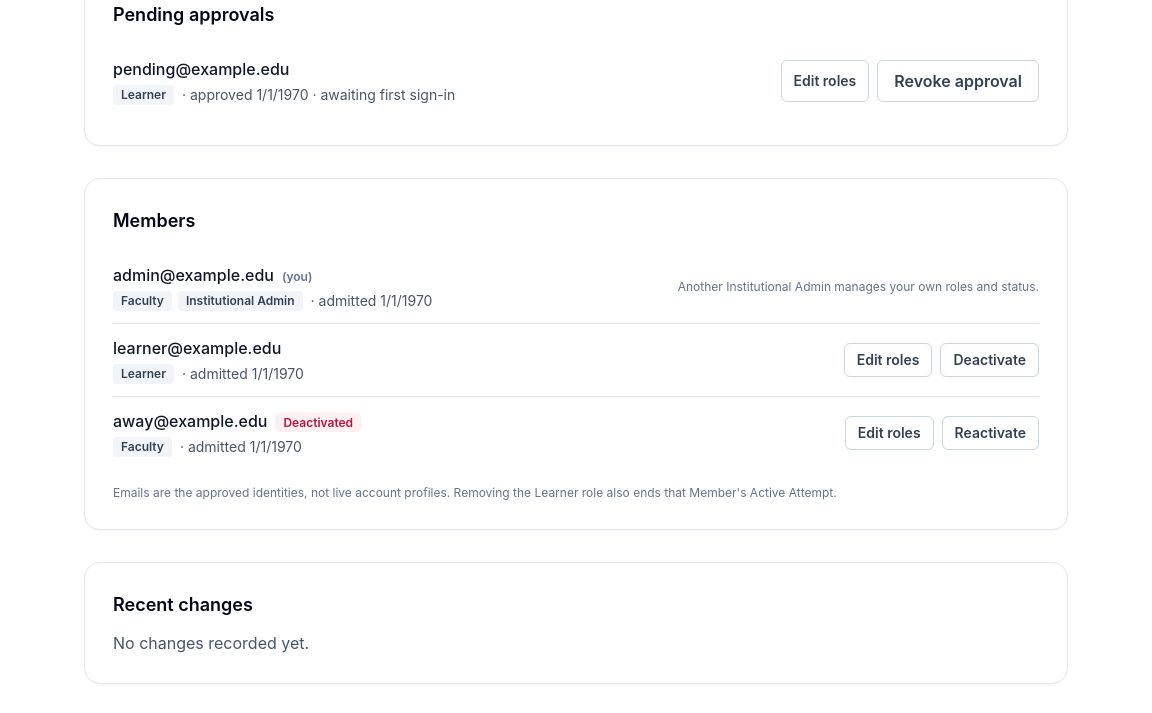
Members page › edits a Member's roles and explains a refused change
This screenshot has width=1152, height=713.
(page scrolled)
Click the button "Edit roles" in the row of "learner@example.edu".
click(888, 360)  # box [844, 343, 932, 377]
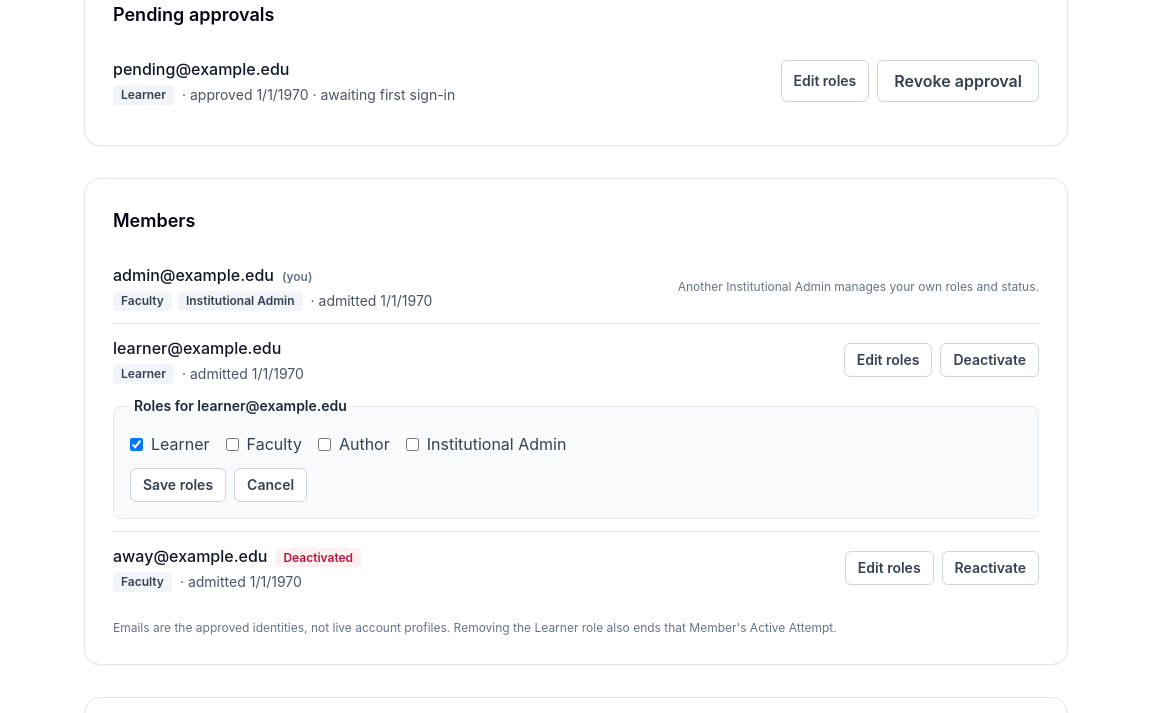
Click the checkbox labelled "Faculty".
click(232, 444)  # box [226, 438, 239, 450]
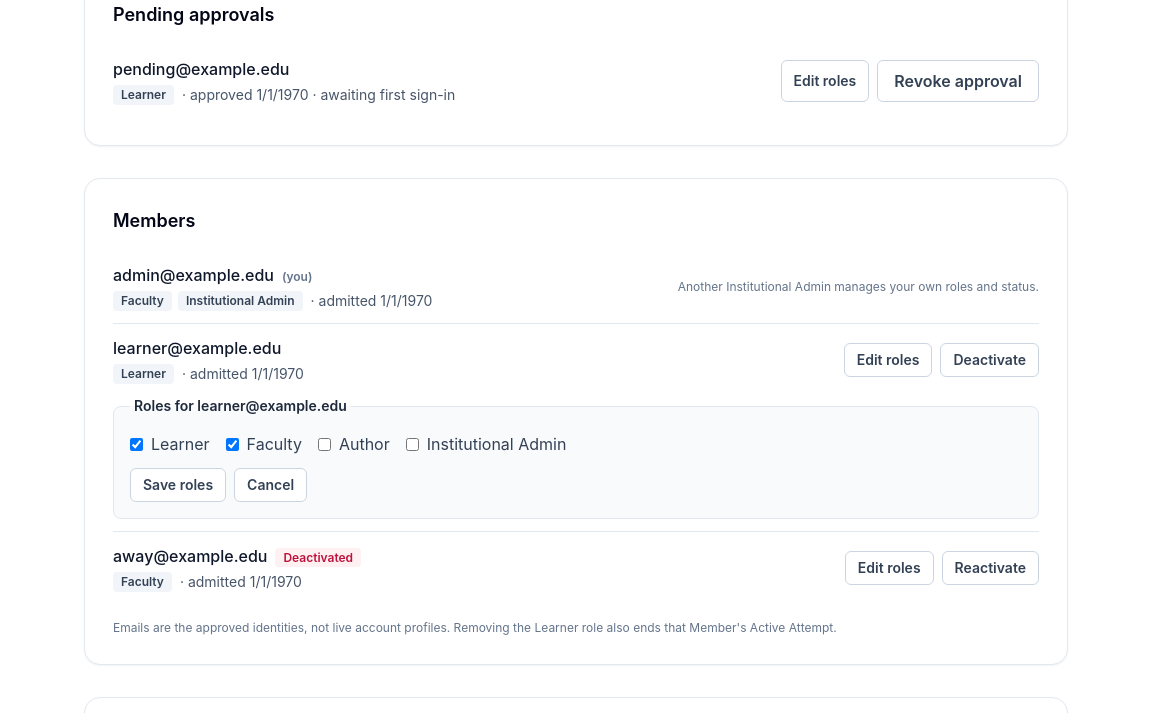
Click the button "Save roles".
click(178, 485)  # box [130, 468, 226, 502]
(page scrolled)
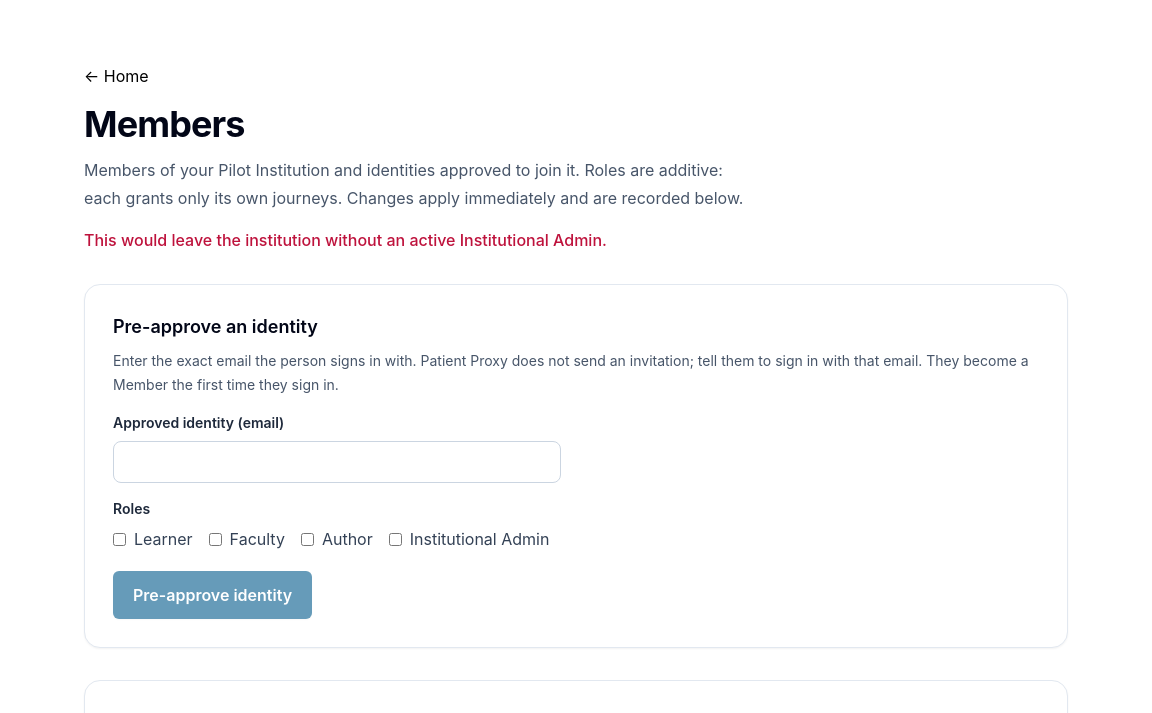
Expected: the message shows "without an active Institutional Admin", [84, 230, 607, 250]
